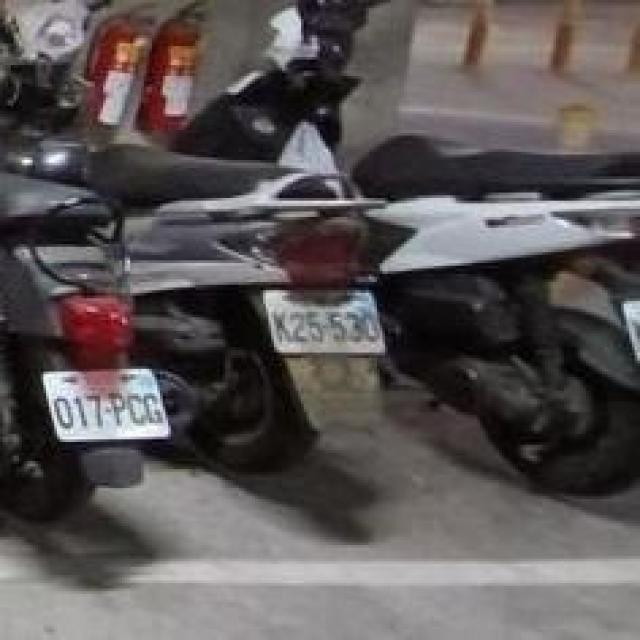W: (252, 274, 393, 366), (38, 353, 171, 450), (613, 271, 640, 377)
